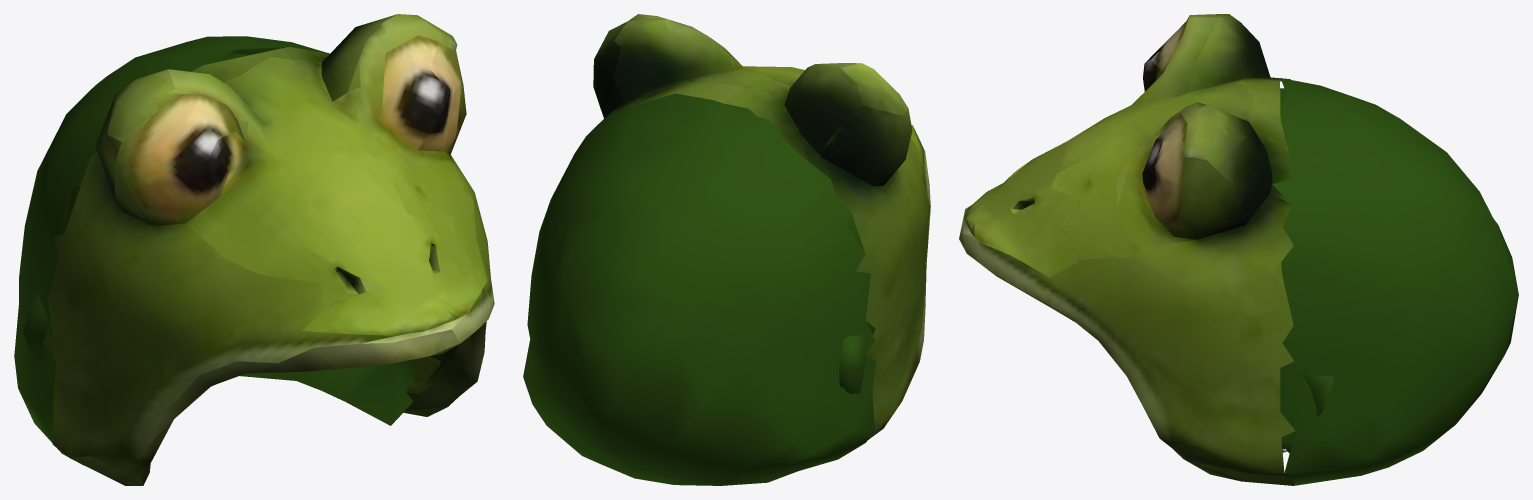
File: frog.glb
3 views of the same model, side by side, from view 1: azimuth 30°, elevation 25°; view 2: azimuth 150°, elevation 25°; view 3: azimuth 270°, elevation 25° (orthographic). The views are drawn at different scales.
Visible parts, largest first — view 1: geometry_0, HoodAnatomicalLining; view 2: geometry_0, HoodAnatomicalLining; view 3: geometry_0, HoodAnatomicalLining.
Part boxes in pixels (x1=…): geometry_0: x1=14, y1=14, x2=494, y2=485; HoodAnatomicalLining: x1=22, y1=53, x2=416, y2=425; geometry_0: x1=523, y1=14, x2=930, y2=485; HoodAnatomicalLining: x1=724, y1=103, x2=875, y2=393; geometry_0: x1=959, y1=14, x2=1518, y2=485; HoodAnatomicalLining: x1=1280, y1=88, x2=1334, y2=449.
Size of the model in its own units: 0.4602 by 0.4805 by 0.6684.
Materials: 2 (1 with a texture image).
